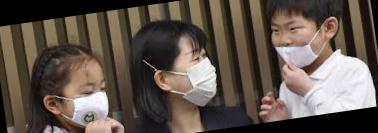mask_weared_incorrect: (269, 15, 324, 65)
with_mask: (177, 47, 223, 108), (69, 75, 117, 126)
